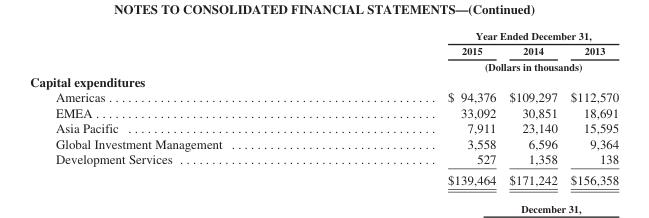table: (29, 29, 618, 186)
table column: (29, 29, 334, 186), (334, 29, 502, 186), (502, 29, 563, 186), (563, 29, 618, 186)
table column header: (29, 29, 618, 72)
table projected row header: (29, 72, 618, 88)
table row: (29, 150, 618, 168), (29, 168, 618, 186), (29, 72, 618, 88), (29, 88, 618, 104), (29, 119, 618, 135), (29, 43, 618, 58), (29, 104, 618, 119), (29, 135, 618, 150), (29, 29, 618, 43), (29, 58, 618, 72)
table spanning cell: (334, 29, 618, 43), (334, 58, 618, 72)
